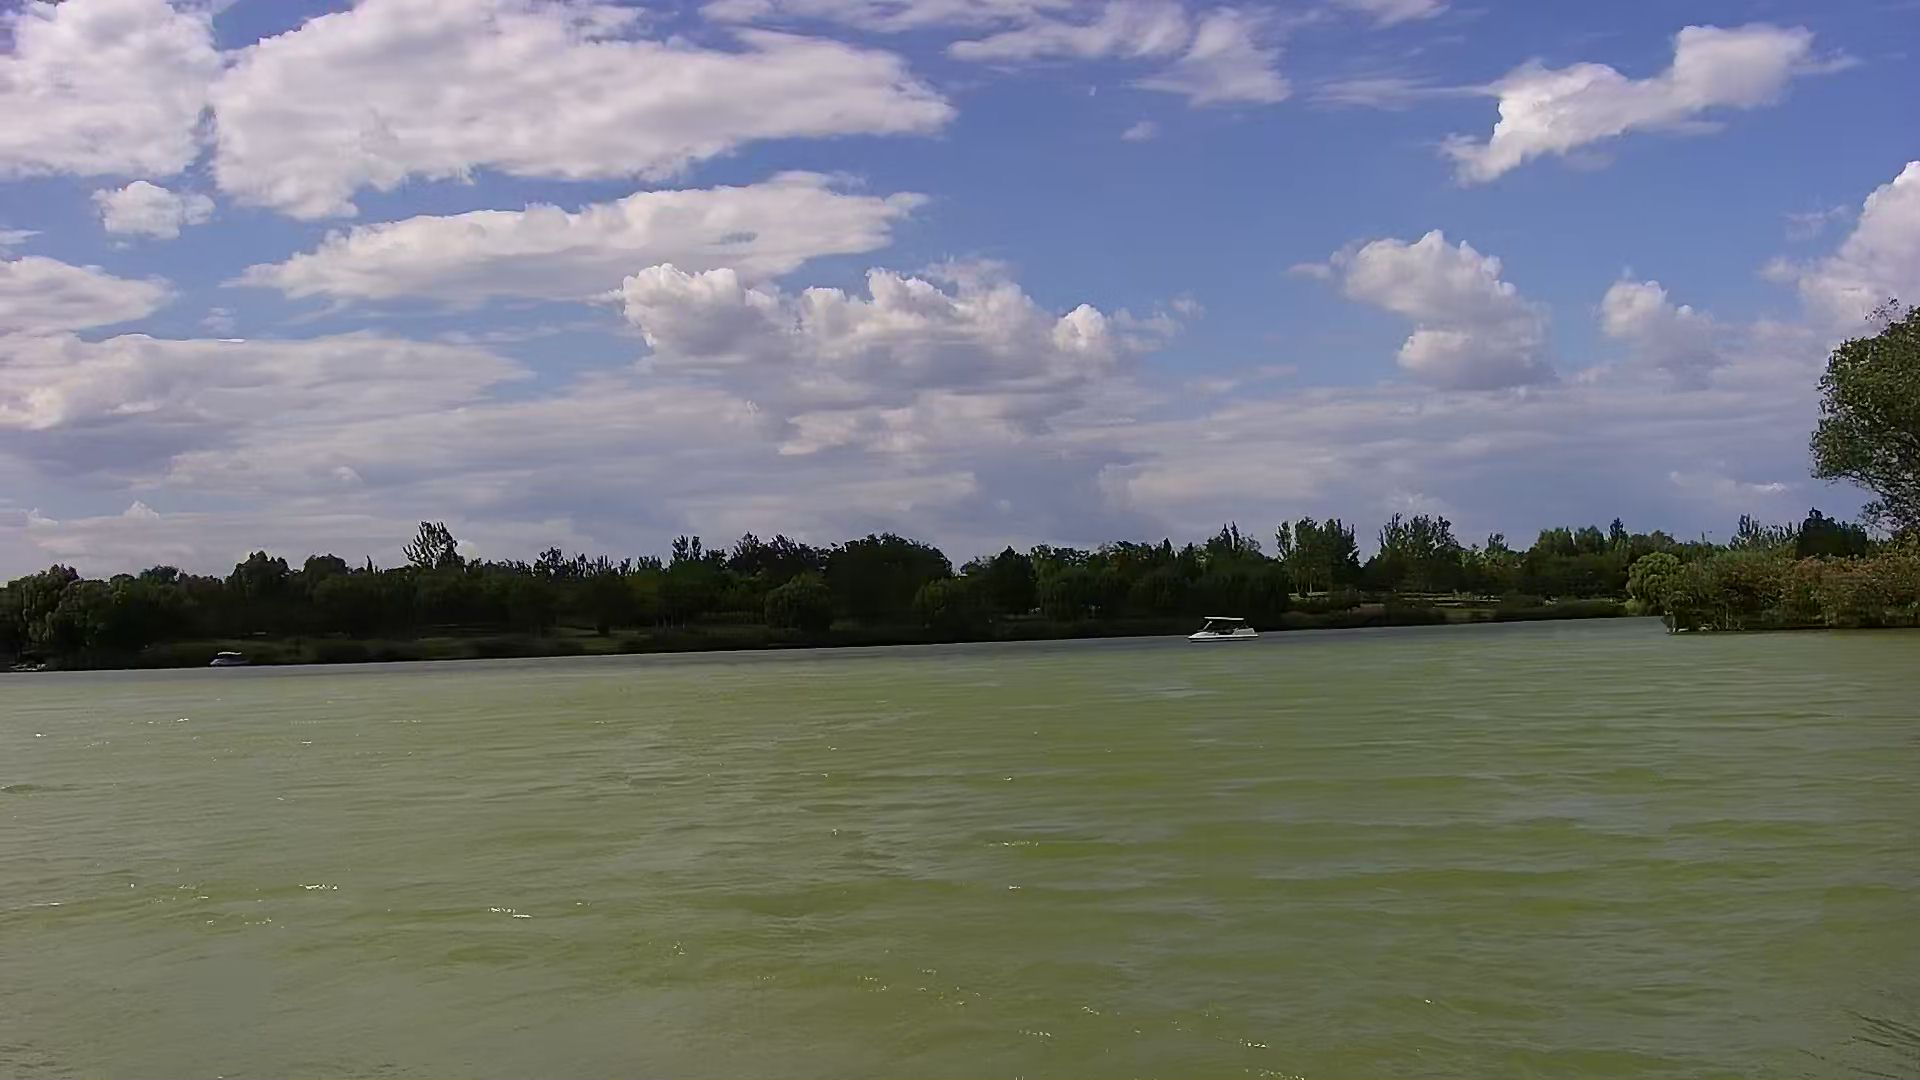boat: (1180, 611, 1267, 647), (208, 645, 251, 669)
